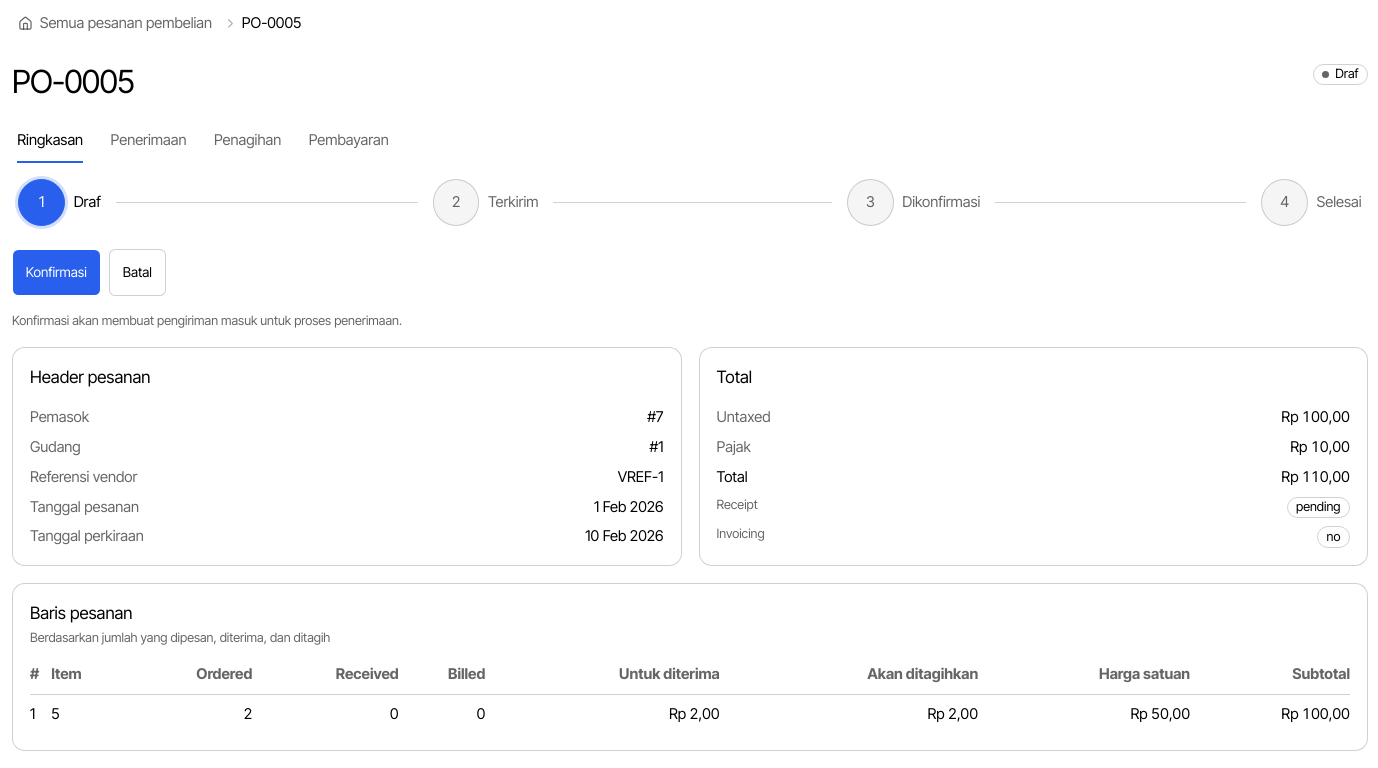
Scenario: PurchaseOrderDetail branches2 › disables payment for draft orders and enables it when confirmed
Click the tab "Pembayaran": click(349, 141) [308,117,390,164]
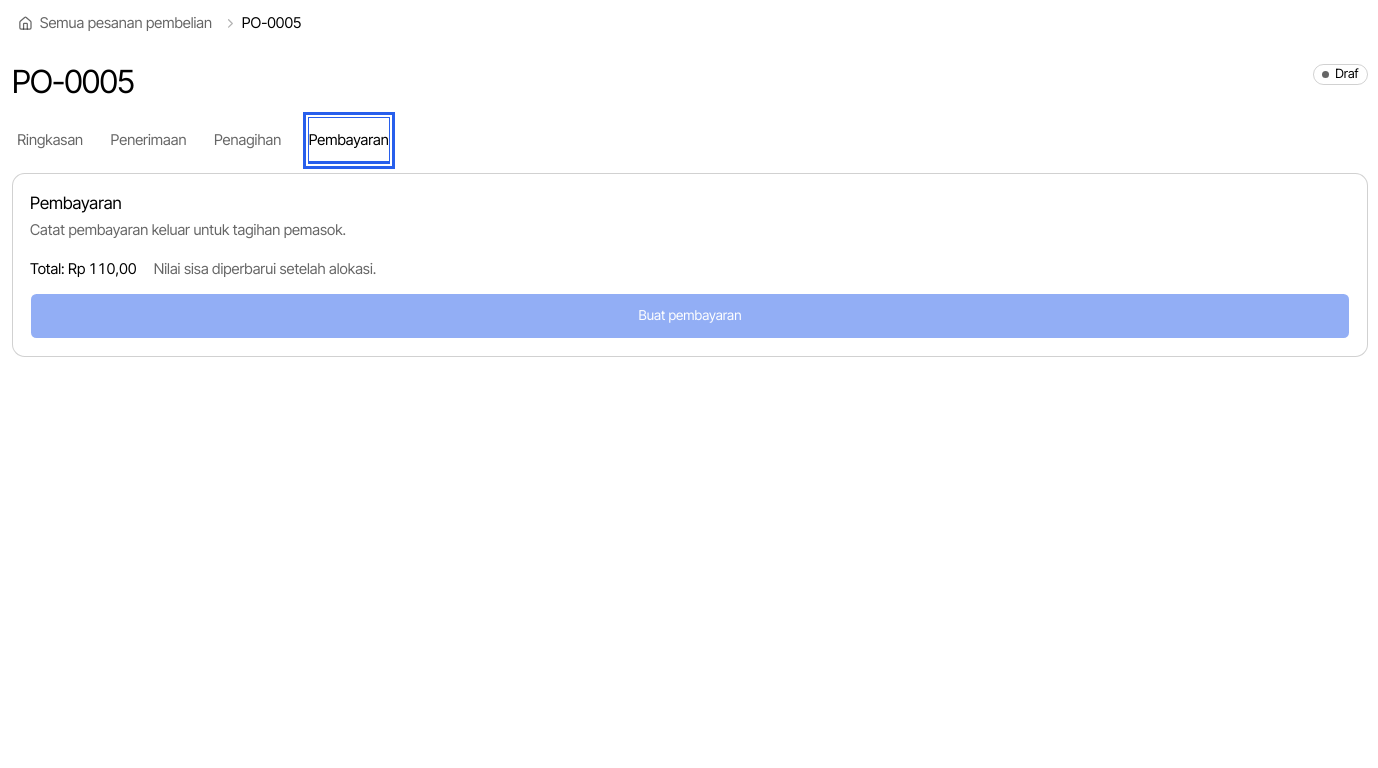
Expected: the button "Buat pembayaran" is disabled, [30,293,1350,340]
